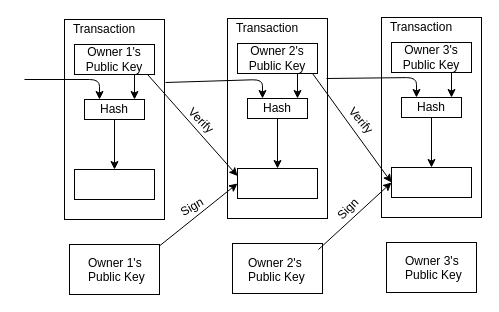
This 499x312 diagram has some shape labels left out. Here are the shapes that lost their labels. From the top down, the centre of each, then its label:
At point 114,184: "Owner 0's Signature".
At point 277,183: "Owner 1's Signature".
At point 431,182: "Owner 2's Signature".
